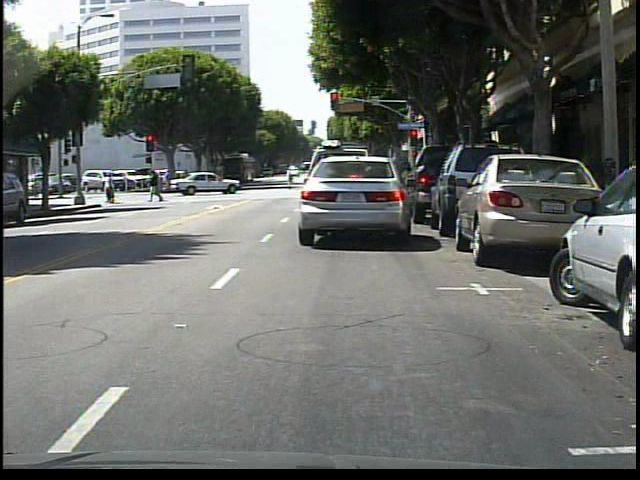person: (104, 173, 121, 206), (151, 170, 164, 203), (286, 166, 297, 190)
